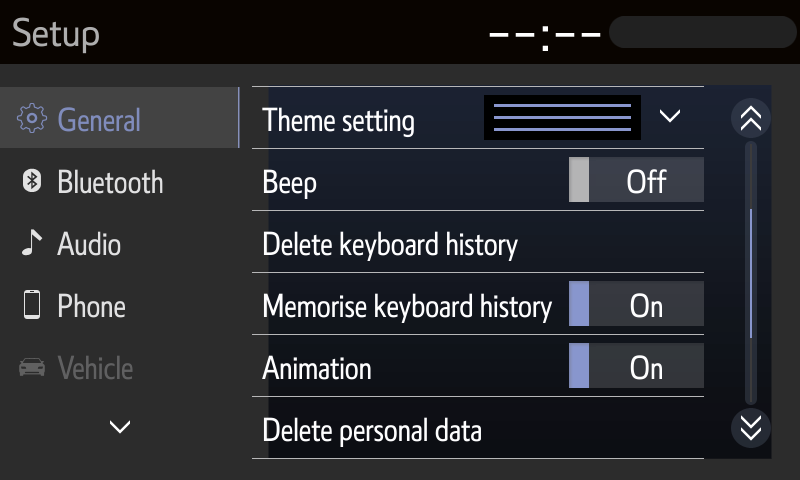touchPart: (244, 391, 710, 463), (246, 268, 709, 338), (244, 333, 716, 401), (252, 81, 704, 151), (246, 209, 711, 277), (250, 146, 705, 215), (6, 160, 177, 199), (9, 222, 145, 266), (10, 285, 138, 330), (725, 406, 771, 450), (725, 97, 772, 140), (98, 407, 141, 445)
untouchPart: (1, 82, 242, 153), (480, 12, 797, 54), (19, 352, 142, 386), (7, 14, 98, 54)
